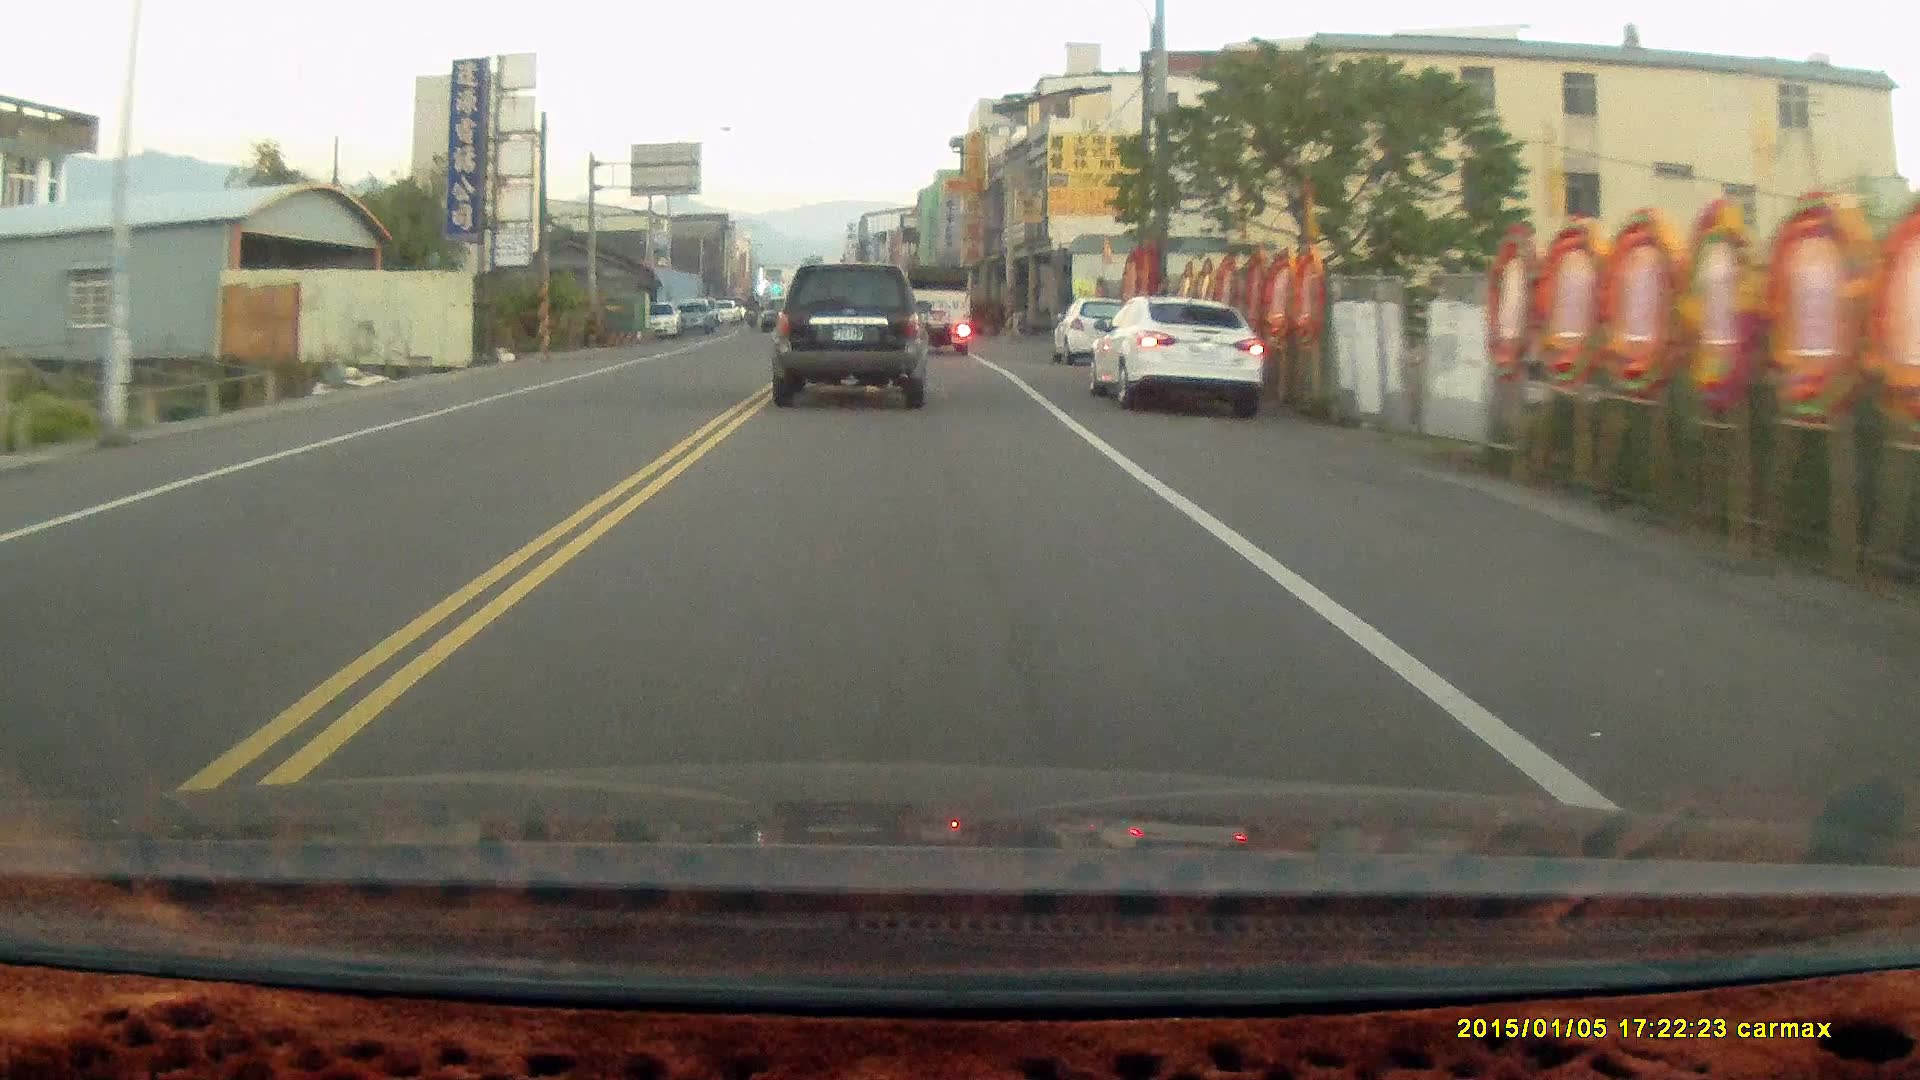vehicle: (770, 260, 932, 410), (1089, 291, 1267, 411), (899, 262, 976, 357), (1052, 295, 1146, 364)
